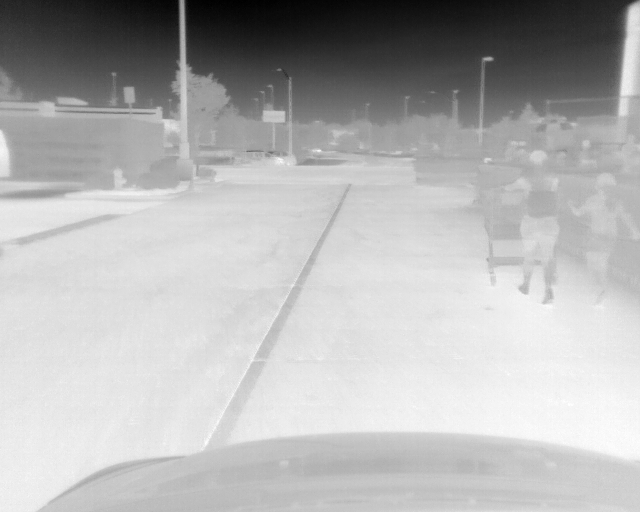car: (252, 150, 296, 168)
people: (495, 149, 562, 306), (566, 172, 640, 307), (573, 141, 597, 171)
